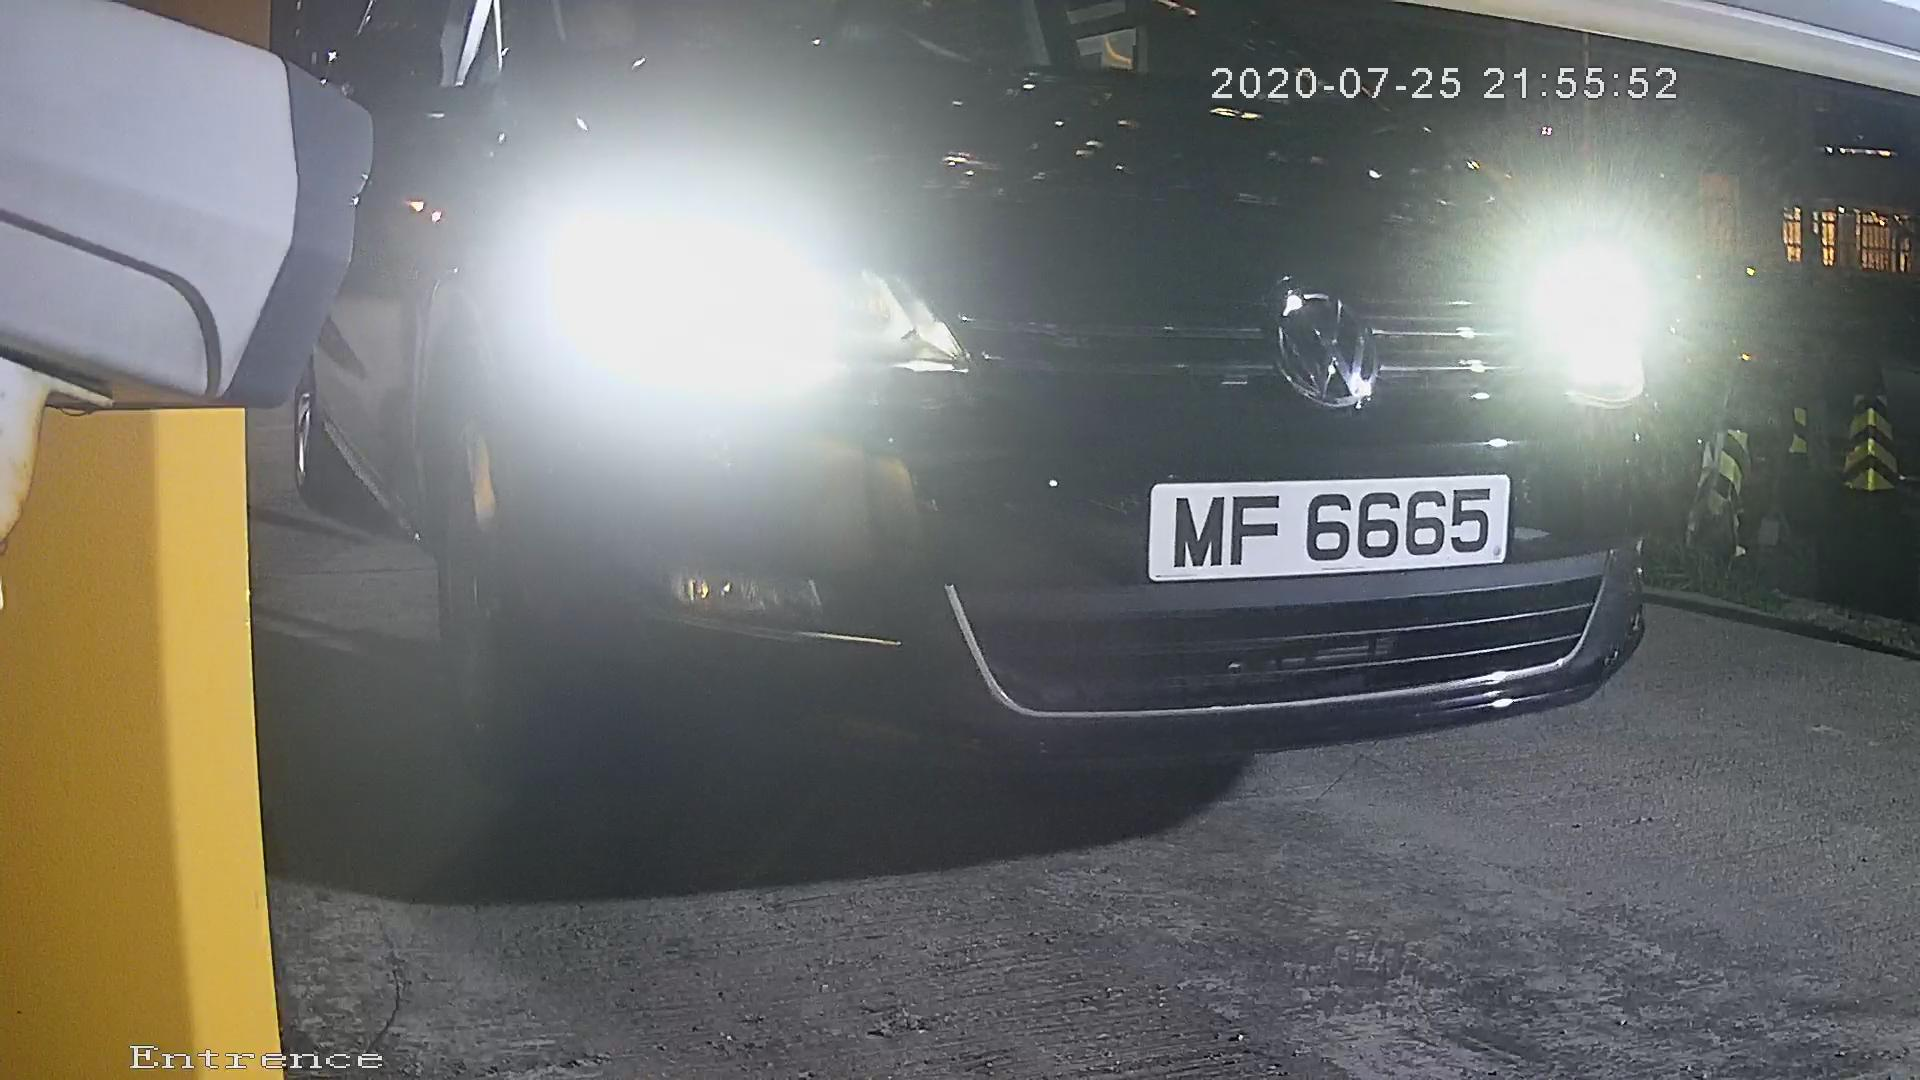Car: (129, 10, 1843, 839)
License Plate: (1115, 463, 1543, 598)
